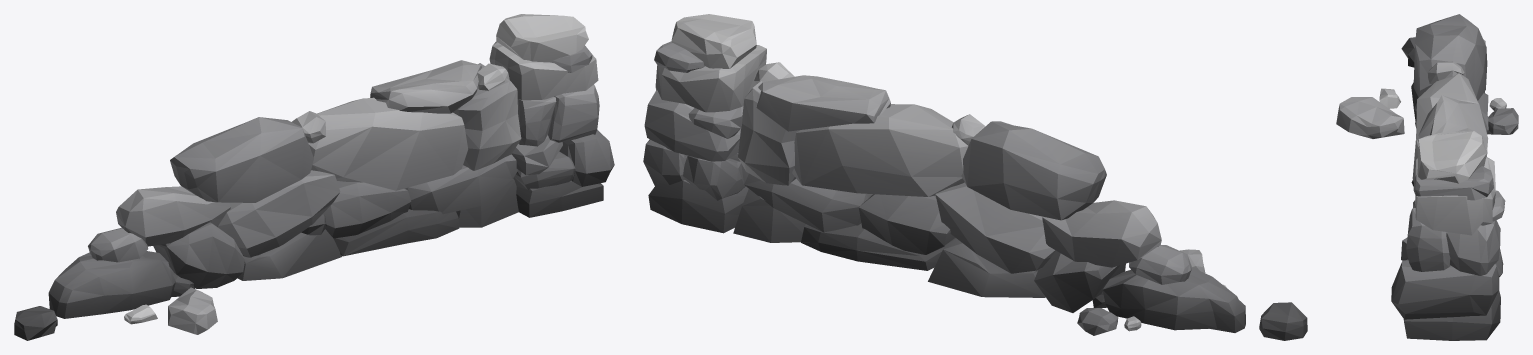
File: RoadFenceStone_Damagedl-01.FBX
3 renders of one model, left to right at view 1: azimuth 30°, elevation 25°; view 2: azimuth 150°, elevation 25°; view 3: azimuth 270°, elevation 25°, orthographic. The views are drawn at different scales.
Visible parts, largest first — view 1: RoadFenceStone_Damagedl-01; view 2: RoadFenceStone_Damagedl-01; view 3: RoadFenceStone_Damagedl-01.
Part boxes in pixels (<box>): RoadFenceStone_Damagedl-01: <box>14,14,614,340</box>; RoadFenceStone_Damagedl-01: <box>643,14,1307,340</box>; RoadFenceStone_Damagedl-01: <box>1336,14,1518,340</box>.
Bounding box in the file's own units: 462 × 134 × 122.
Materials: 1 (1 with a texture image).
